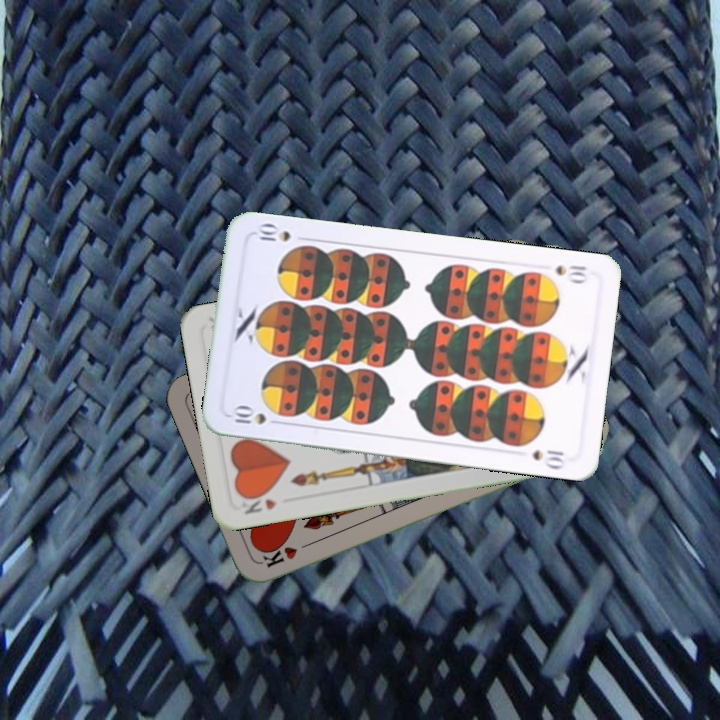HK: (258, 537, 316, 570), (236, 488, 280, 517)
S10: (229, 403, 285, 427), (551, 261, 590, 286)
